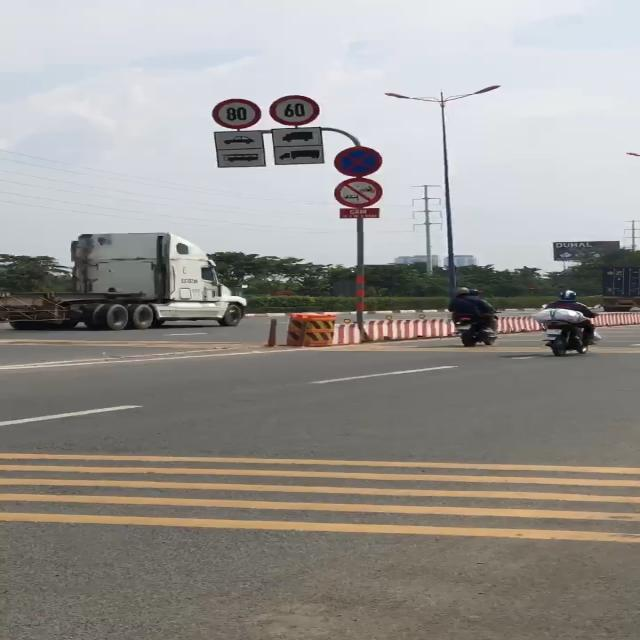Bien bao cam dung xe va do xe: (330, 143, 385, 177)
Bien bao toc do toi da cho phep: (265, 92, 325, 127), (210, 96, 265, 130)
